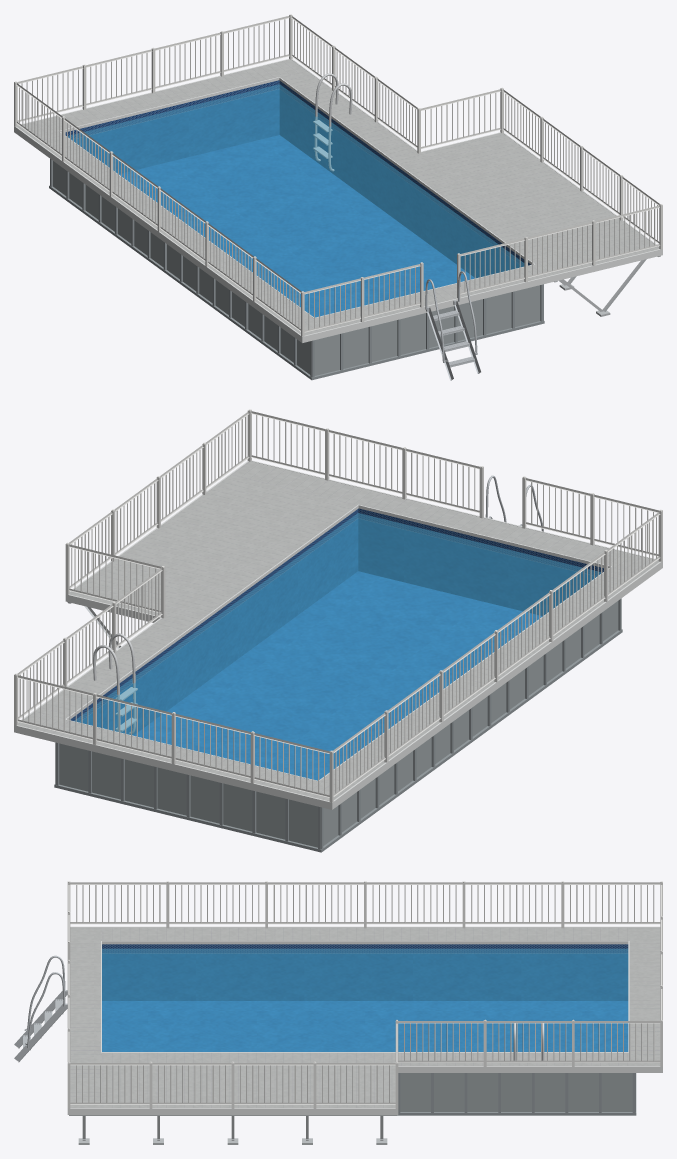
File: kayak-pool-16x32-gray-l-ag-fence.f4a194d52e.glb
The picture shows the model from 3 angles, top to bottom: view 1: azimuth 30°, elevation 25°; view 2: azimuth 150°, elevation 25°; view 3: azimuth 270°, elevation 25°; orthographic projection. The views are drawn at different scales.
Visible parts, largest first — view 1: water, deck, liner_floor, fence, liner_wall, wall, fascia, upright, ladder, steel, stud; view 2: water, deck, liner_floor, fence, liner_wall, wall, fascia, upright, steel; view 3: water, deck, liner_wall, liner_floor, fence, wall, fascia, upright, ladder, stud.
Part boxes in pixels (bbox=[...]): water: bbox=[68, 84, 524, 317]; deck: bbox=[17, 59, 659, 335]; liner_floor: bbox=[119, 135, 474, 317]; fence: bbox=[14, 14, 662, 336]; liner_wall: bbox=[65, 80, 530, 277]; wall: bbox=[53, 161, 540, 375]; fascia: bbox=[14, 59, 662, 342]; upright: bbox=[49, 159, 544, 380]; ladder: bbox=[425, 271, 480, 380]; steel: bbox=[313, 73, 352, 171]; stud: bbox=[554, 255, 660, 316]; water: bbox=[74, 513, 600, 780]; deck: bbox=[18, 461, 659, 801]; liner_floor: bbox=[134, 571, 542, 780]; fence: bbox=[14, 409, 662, 802]; liner_wall: bbox=[70, 508, 603, 735]; wall: bbox=[59, 601, 618, 847]; fascia: bbox=[14, 460, 662, 809]; upright: bbox=[54, 598, 622, 852]; steel: bbox=[93, 633, 137, 734]; water: bbox=[102, 948, 628, 1051]; deck: bbox=[70, 927, 660, 1107]; liner_wall: bbox=[102, 944, 628, 1000]; liner_floor: bbox=[102, 1001, 628, 1051]; fence: bbox=[67, 881, 662, 1108]; wall: bbox=[400, 1073, 632, 1111]; fascia: bbox=[67, 926, 662, 1114]; upright: bbox=[397, 1073, 636, 1115]; ladder: bbox=[14, 955, 67, 1062]; stud: bbox=[69, 1115, 396, 1144].
Bounding box in the file's own units: 7.93 × 2.15 × 11.96.
11 materials, 3 textured.
